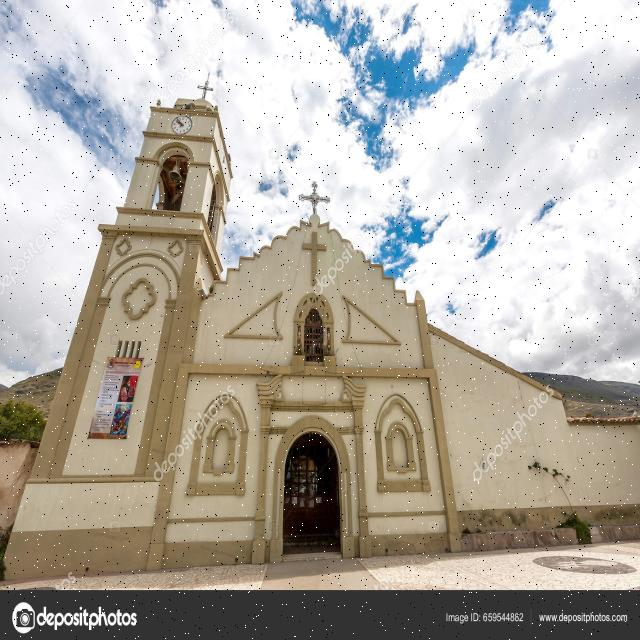CAMPANARIO: (113, 133, 248, 265)
PORTADA CENTRAL: (258, 387, 367, 576)
TORRES: (0, 72, 255, 590)
colonial-architecture-: (0, 32, 640, 576)
